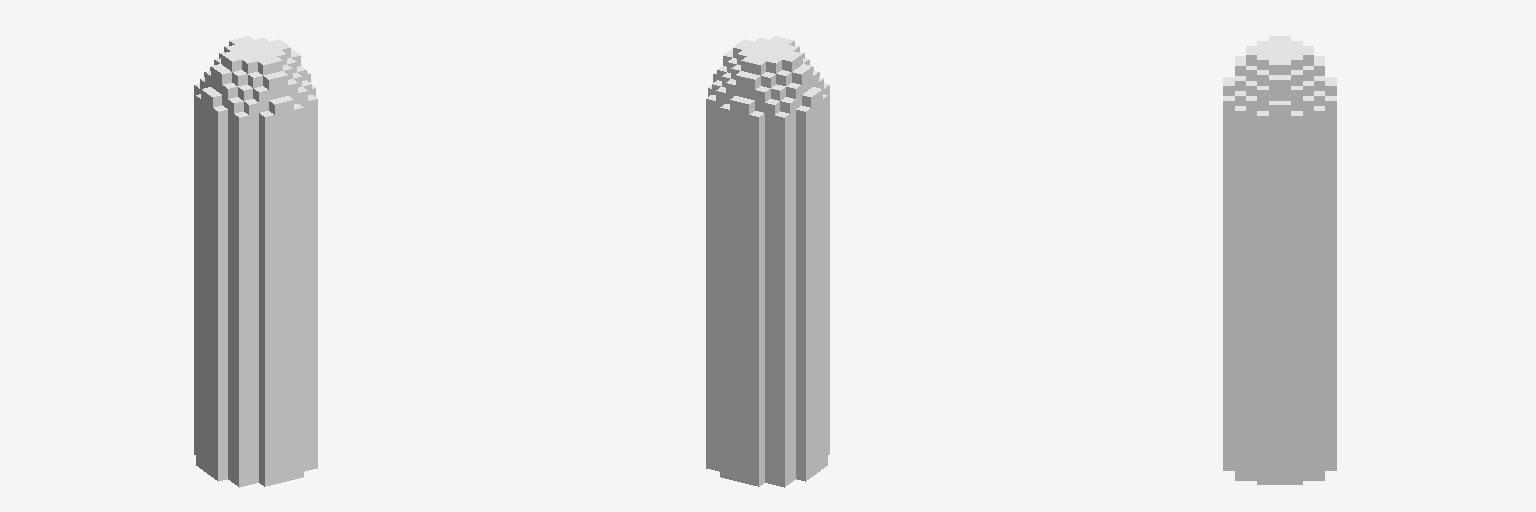
Rendered from Mine-1-Torch.obj.
3 renders of one model, left to right at view 1: azimuth 30°, elevation 25°; view 2: azimuth 150°, elevation 25°; view 3: azimuth 270°, elevation 25°, orthographic.
Visible parts, largest first — view 1: Torch; view 2: Torch; view 3: Torch.
Part boxes in pixels (left/top/right/bottom): Torch: left=194, top=36, right=317, bottom=487; Torch: left=706, top=36, right=829, bottom=487; Torch: left=1223, top=36, right=1336, bottom=484.
Size of the model in its own units: 1 by 4 by 1.